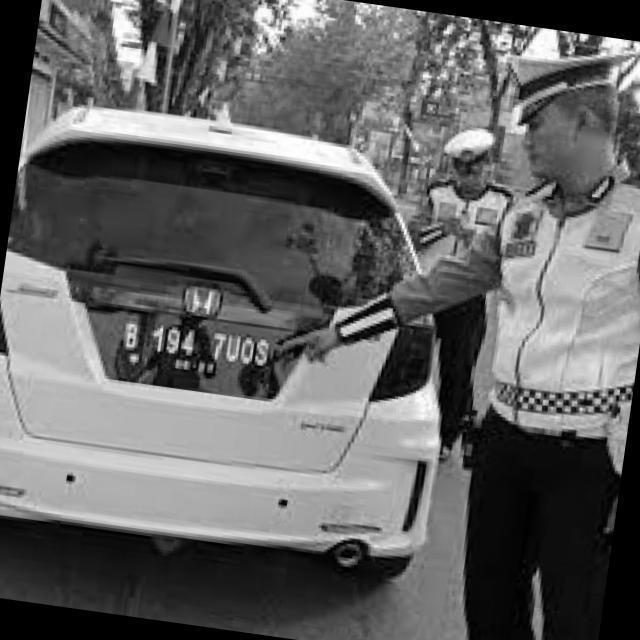1: (150, 322, 167, 356)
4: (176, 326, 200, 362)
7: (205, 330, 227, 362)
9: (161, 322, 182, 358)
B: (117, 316, 142, 356)
O: (240, 336, 256, 366)
S: (252, 338, 272, 370)
U: (223, 332, 244, 364)
